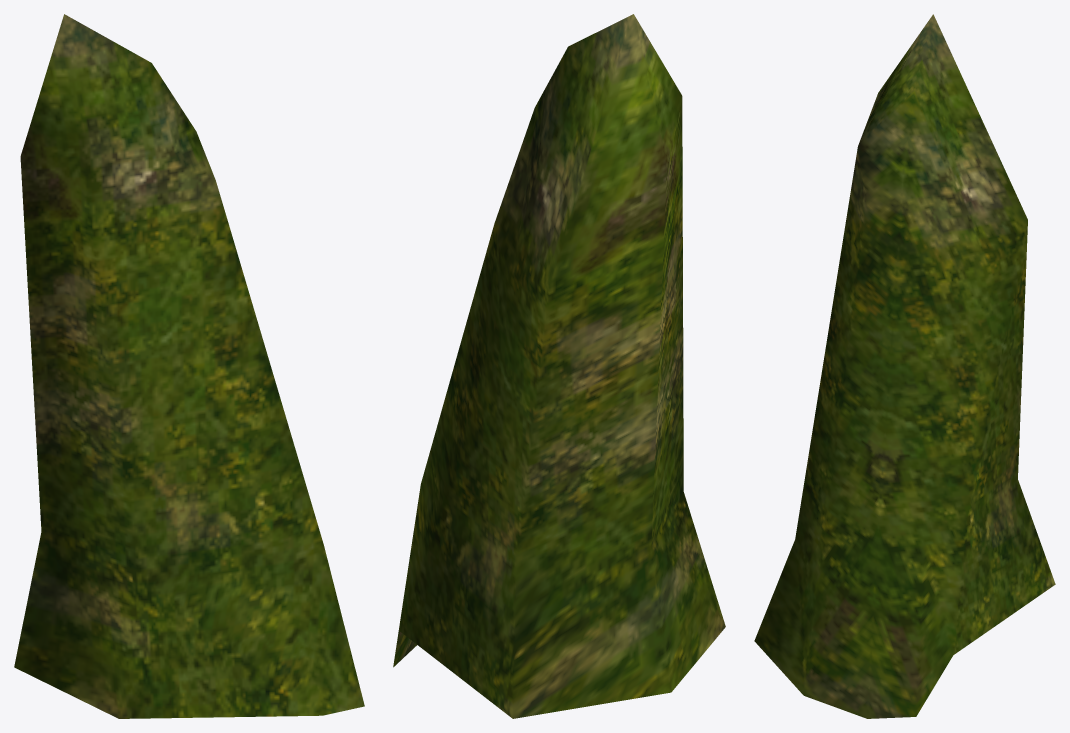
The model's file is OVERHILL_A_01_ROCK27.fbx.
3 views of the same model, side by side, from view 1: azimuth 30°, elevation 25°; view 2: azimuth 150°, elevation 25°; view 3: azimuth 270°, elevation 25° (orthographic). The views are drawn at different scales.
Parts seen in each view (by area): view 1: OVERHILL_A_01_ROCK27; view 2: OVERHILL_A_01_ROCK27; view 3: OVERHILL_A_01_ROCK27.
Part boxes in pixels (x1=…): OVERHILL_A_01_ROCK27: x1=14, y1=14, x2=364, y2=718; OVERHILL_A_01_ROCK27: x1=393, y1=14, x2=725, y2=718; OVERHILL_A_01_ROCK27: x1=754, y1=14, x2=1055, y2=718.
Size of the model in its own units: 9036 by 20762 by 9434.
Materials: 1 (1 with a texture image).
